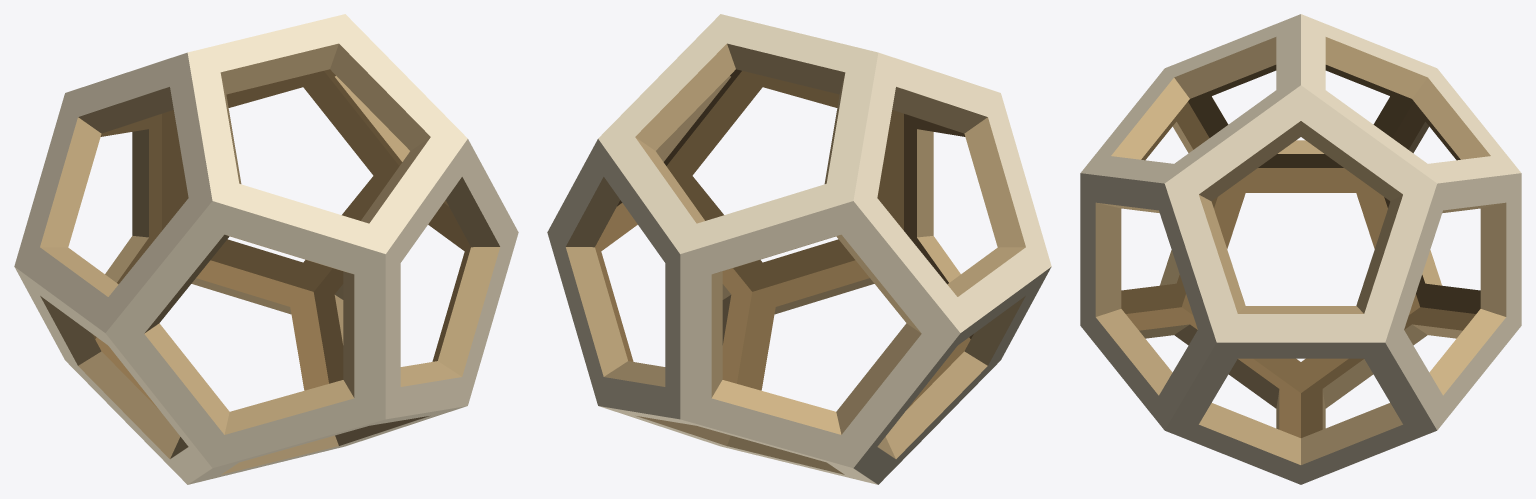
Rendered from dodecahedron_vacuum.obj.
The picture shows the model from 3 angles, left to right: view 1: azimuth 30°, elevation 25°; view 2: azimuth 150°, elevation 25°; view 3: azimuth 270°, elevation 25°; orthographic projection. The views are drawn at different scales.
Visible parts, largest first — view 1: dodecahedron_vacuate_outer_frame, dodecahedron_vacuate_window_reveal, dodecahedron_vacuate_inner_frame; view 2: dodecahedron_vacuate_outer_frame, dodecahedron_vacuate_window_reveal, dodecahedron_vacuate_inner_frame; view 3: dodecahedron_vacuate_outer_frame, dodecahedron_vacuate_window_reveal, dodecahedron_vacuate_inner_frame.
Boxes of the visible parts, bbox=[...] form: dodecahedron_vacuate_outer_frame: bbox=[14, 14, 518, 484]; dodecahedron_vacuate_window_reveal: bbox=[40, 43, 499, 474]; dodecahedron_vacuate_inner_frame: bbox=[92, 69, 470, 409]; dodecahedron_vacuate_outer_frame: bbox=[547, 14, 1051, 484]; dodecahedron_vacuate_window_reveal: bbox=[566, 43, 1025, 474]; dodecahedron_vacuate_inner_frame: bbox=[595, 69, 973, 409]; dodecahedron_vacuate_outer_frame: bbox=[1080, 14, 1521, 484]; dodecahedron_vacuate_window_reveal: bbox=[1095, 37, 1506, 464]; dodecahedron_vacuate_inner_frame: bbox=[1121, 65, 1480, 437].
Bounding box in the file's own units: 3.24 × 3.24 × 3.24.
